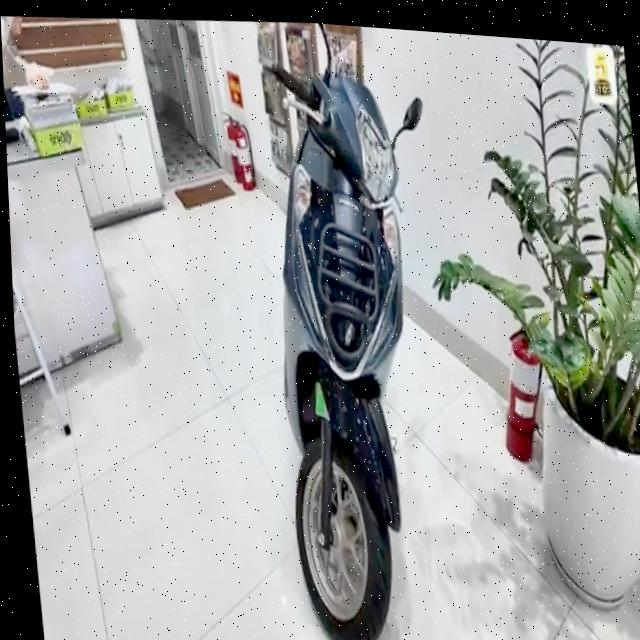motorcycle: (233, 17, 483, 640)
